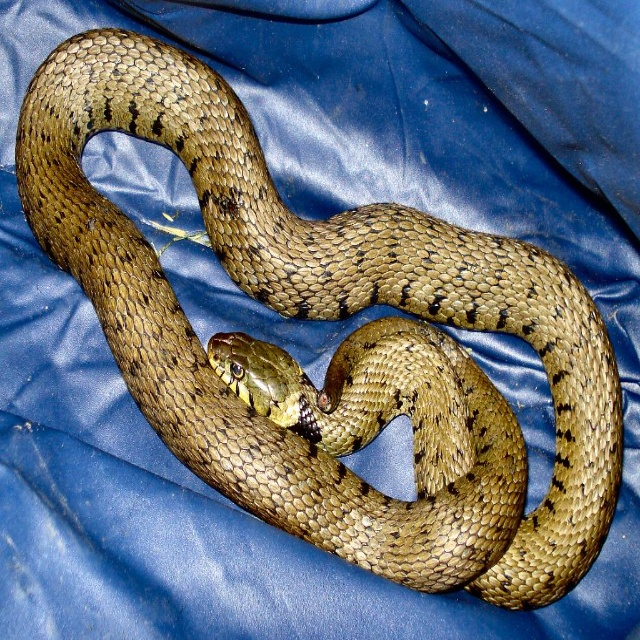Snake: (15, 26, 623, 611)
